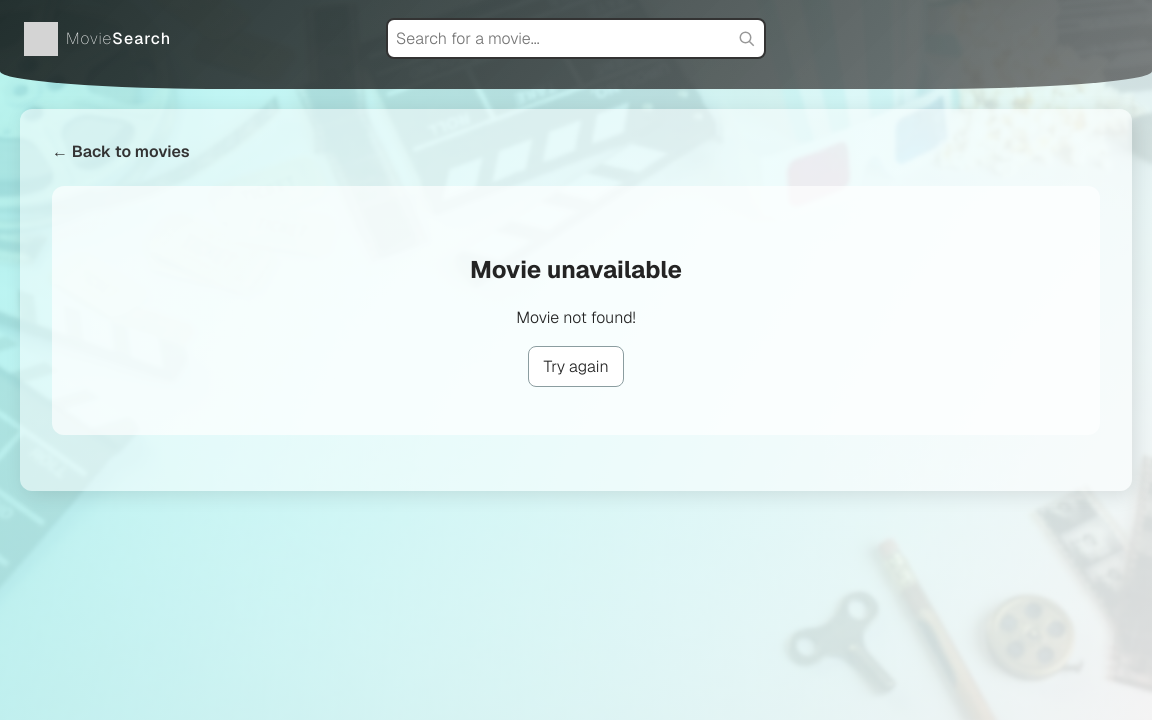
Scenario: supports direct detail links and a safe return to home
This screenshot has width=1152, height=720.
Check: the message shows "Movie not found!", box [516,307,636,328]
Click the link "← Back to movies": (121, 152) [52,141,190,162]
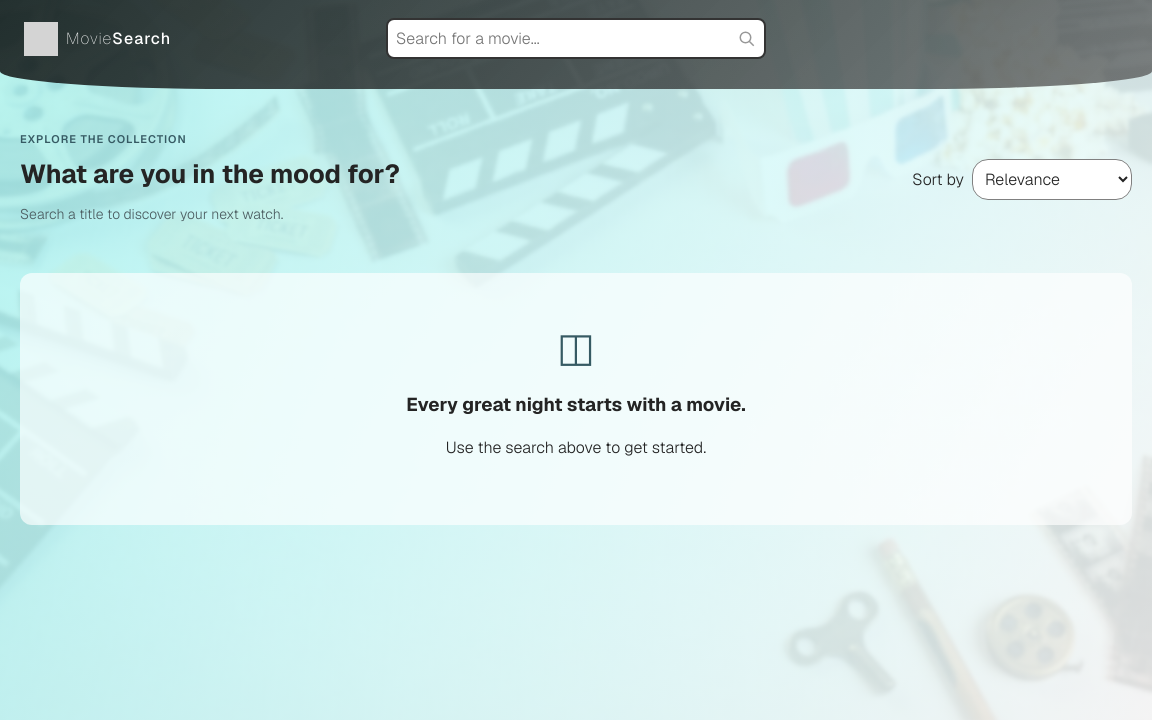
Check: the heading "What are you in the mood for?" is shown, box [20,157,400,191]
